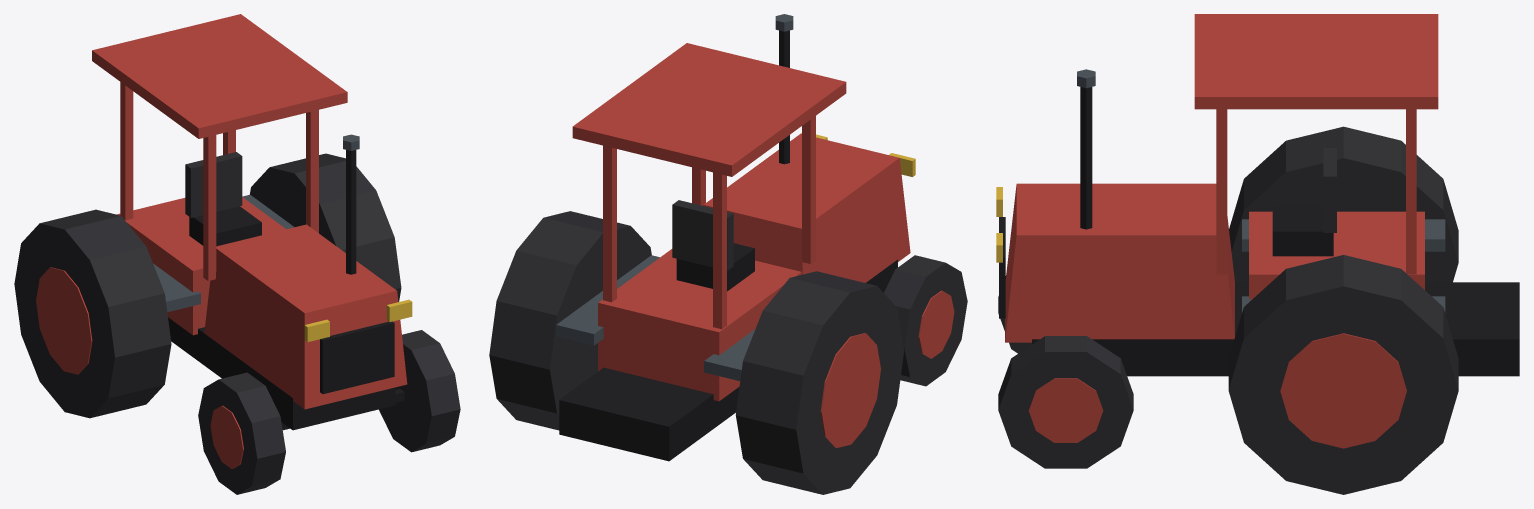
File: GV_Tractor_Red_01.glb
3 views of the same model, side by side, from view 1: azimuth 30°, elevation 25°; view 2: azimuth 150°, elevation 25°; view 3: azimuth 270°, elevation 25° (orthographic). The views are drawn at different scales.
Parts seen in each view (by area): view 1: GV_Tractor_Red_01; view 2: GV_Tractor_Red_01; view 3: GV_Tractor_Red_01.
Part boxes in pixels (box(x1,y1,x2,y2)): GV_Tractor_Red_01: box(14, 14, 460, 494); GV_Tractor_Red_01: box(489, 14, 967, 494); GV_Tractor_Red_01: box(996, 14, 1519, 494).
Bounding box in the file's own units: 2.81 × 2.93 × 3.87.
Materials: 1 (1 with a texture image).
